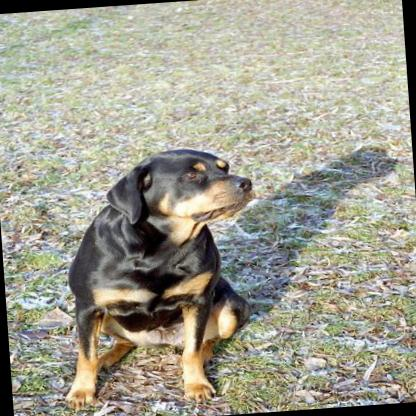Rottweiler: (39, 137, 276, 416)
